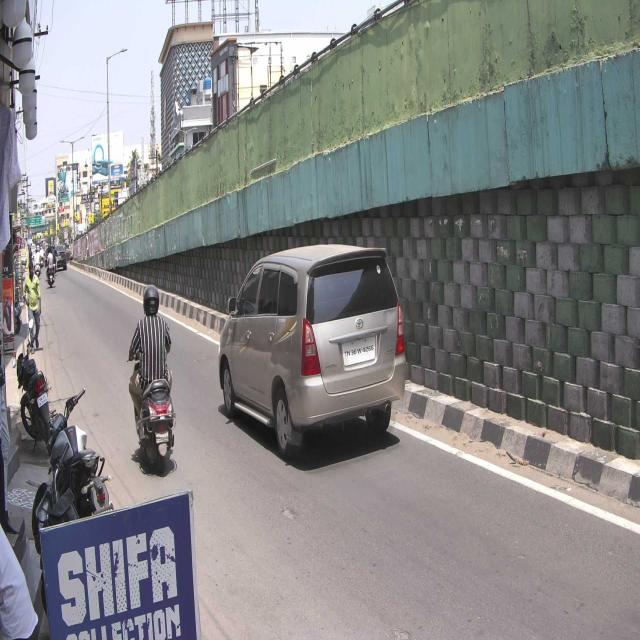single_rider: (128, 283, 176, 477)
